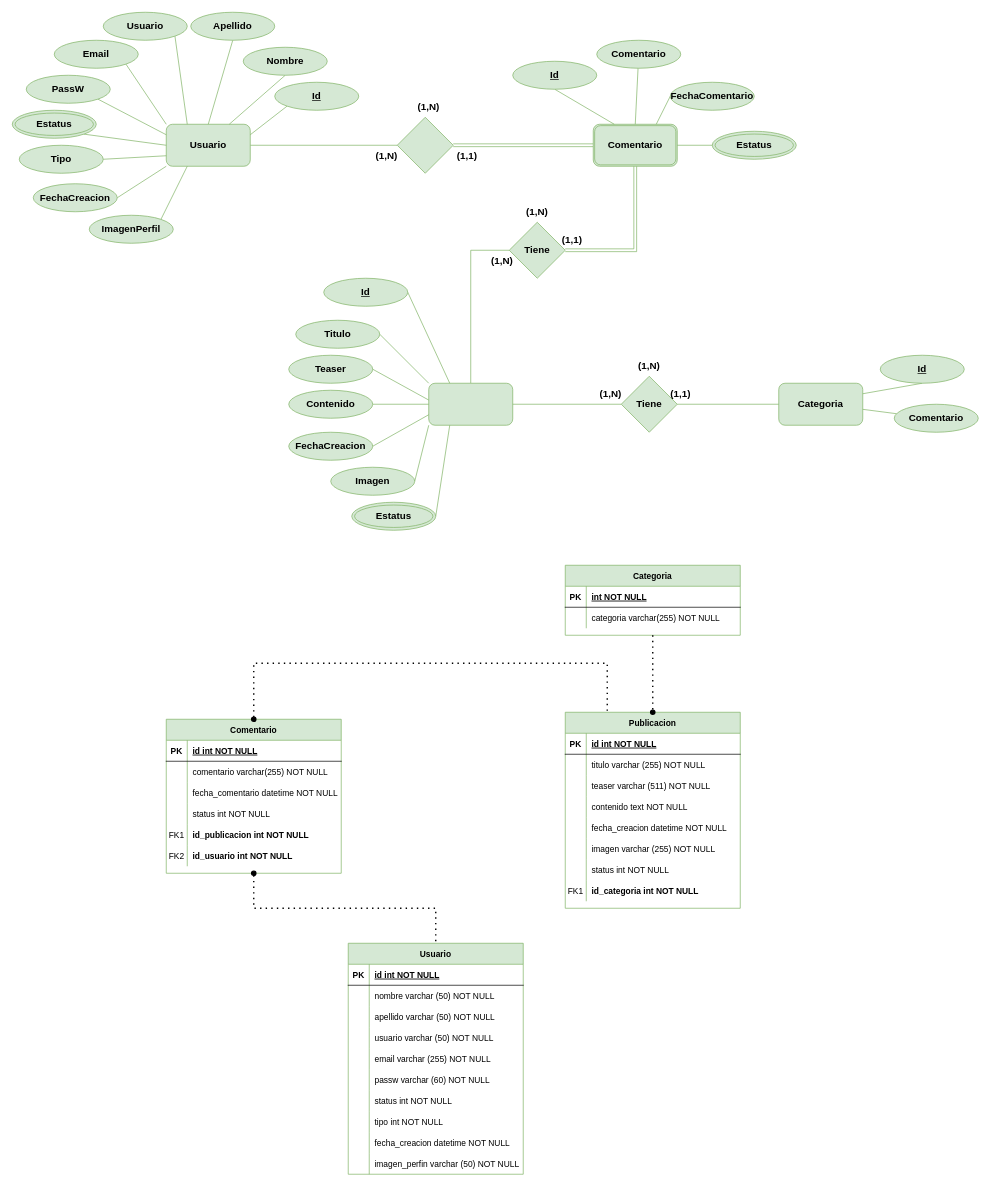
This 991x1187 diagram has some shape labels left out. The shapes that lost their labels are listed below. From the top down, each one's centre as x and y in pixels, then its label:
pixel 425 145: Realiza
pixel 470 404: Publicación
